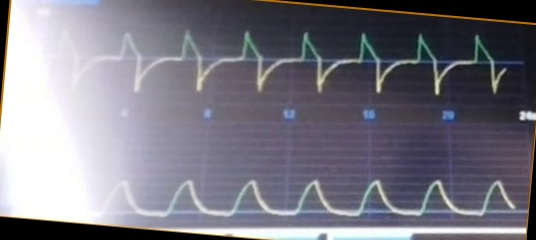Normal Flow: (45, 26, 507, 102)
Normal Volume: (71, 160, 518, 220)
